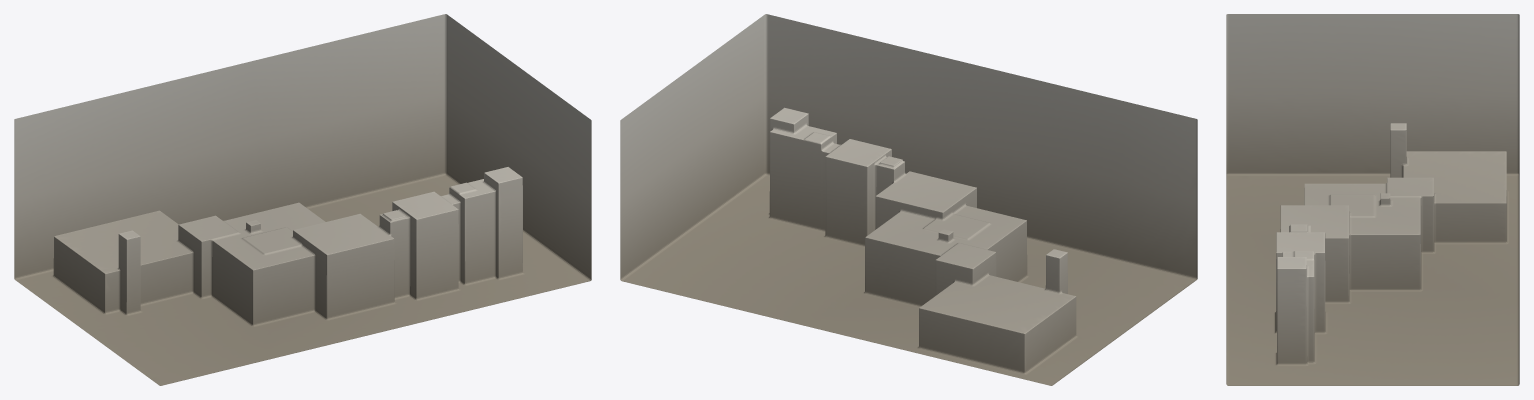
File: hollin_barrow_col.glb
3 renders of one model, left to right at view 1: azimuth 30°, elevation 25°; view 2: azimuth 150°, elevation 25°; view 3: azimuth 270°, elevation 25°, orthographic.
Visible parts, largest first — view 1: geometry_0; view 2: geometry_0; view 3: geometry_0.
Part boxes in pixels (bbox=[...]): geometry_0: bbox=[14, 14, 591, 385]; geometry_0: bbox=[620, 14, 1197, 385]; geometry_0: bbox=[1226, 14, 1519, 385].
Bounding box in the file's own units: 194 × 68.7 × 113.
